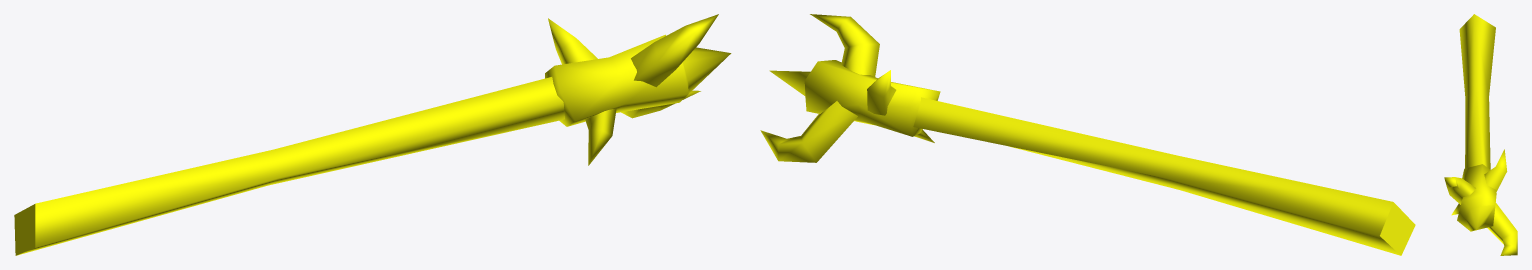
Rendered from ORC_weapon_staff.glb.
3 renders of one model, left to right at view 1: azimuth 30°, elevation 25°; view 2: azimuth 150°, elevation 25°; view 3: azimuth 270°, elevation 25°, orthographic. The views are drawn at different scales.
Visible parts, largest first — view 1: ORC_weapon_staff_B; view 2: ORC_weapon_staff_B; view 3: ORC_weapon_staff_B.
Boxes of the visible parts, x1,y1,x2,y2 form: ORC_weapon_staff_B: (14,14,731,255); ORC_weapon_staff_B: (760,14,1415,255); ORC_weapon_staff_B: (1444,14,1517,255).
Bounding box in the file's own units: 6.63 × 1.1 × 0.9976.
1 material, 1 textured.
